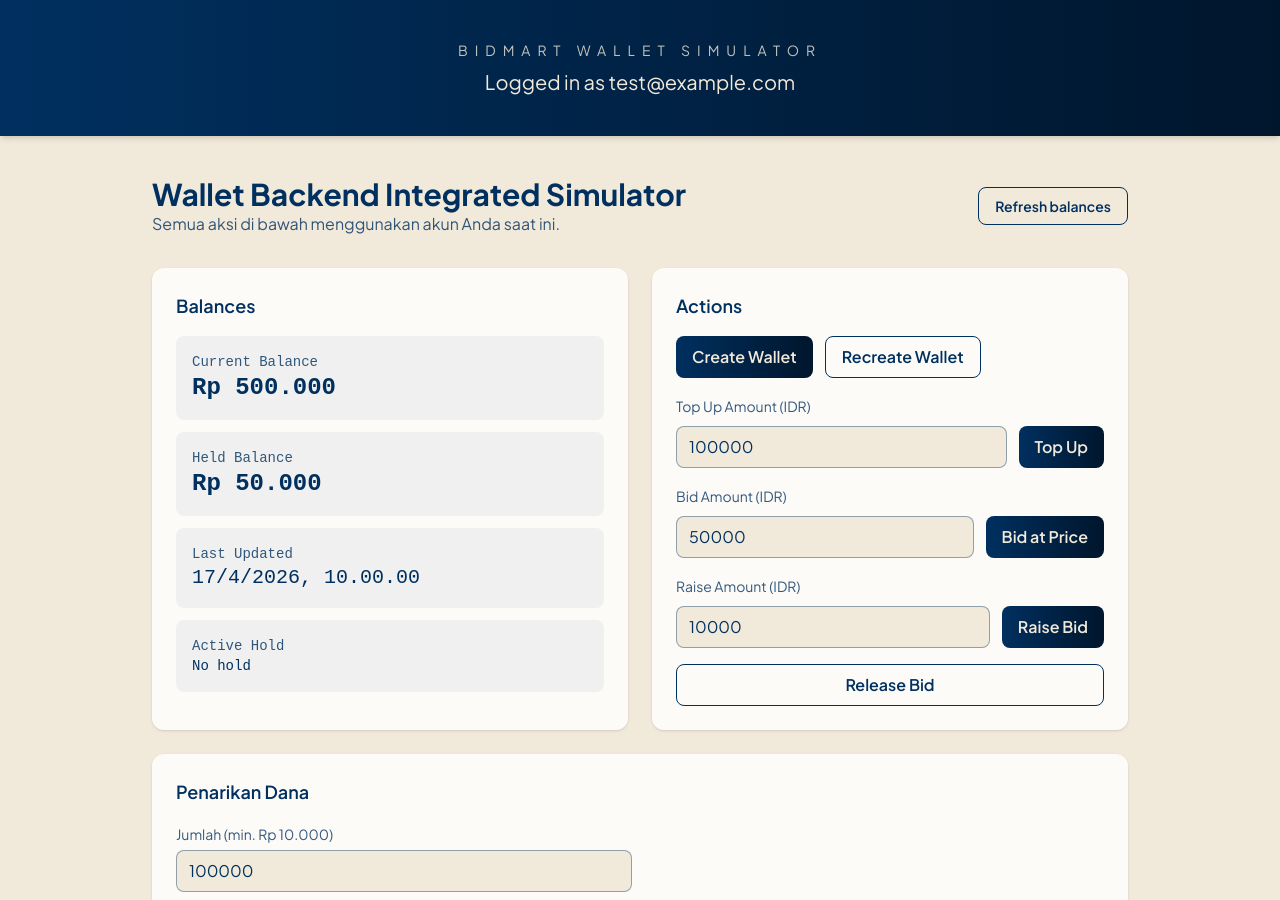
WalletPage – top up handler › successful top up shows success message
Click the button "Top Up" at (1061, 447), box [1018, 426, 1104, 468]
(page scrolled)
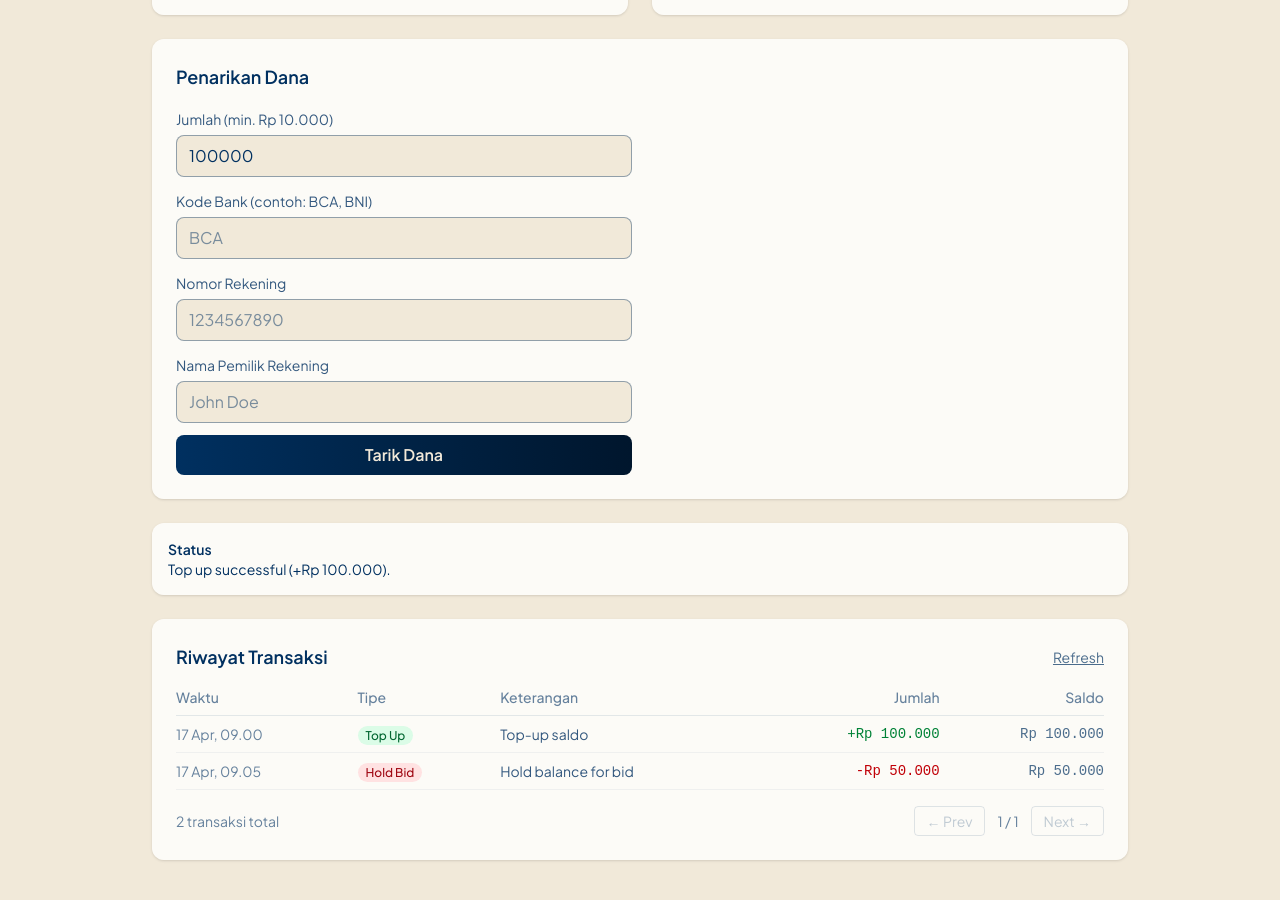
Now the text "Top up successful (+Rp 100.000)." is shown, box [168, 560, 391, 578]
